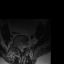CCS_normal: (20, 44, 22, 53)
LFS_normal: (24, 42, 26, 48)
LLS_normal: (22, 44, 24, 52)
RFS_normal: (16, 43, 18, 50)
RLS_normal: (18, 44, 20, 51)
